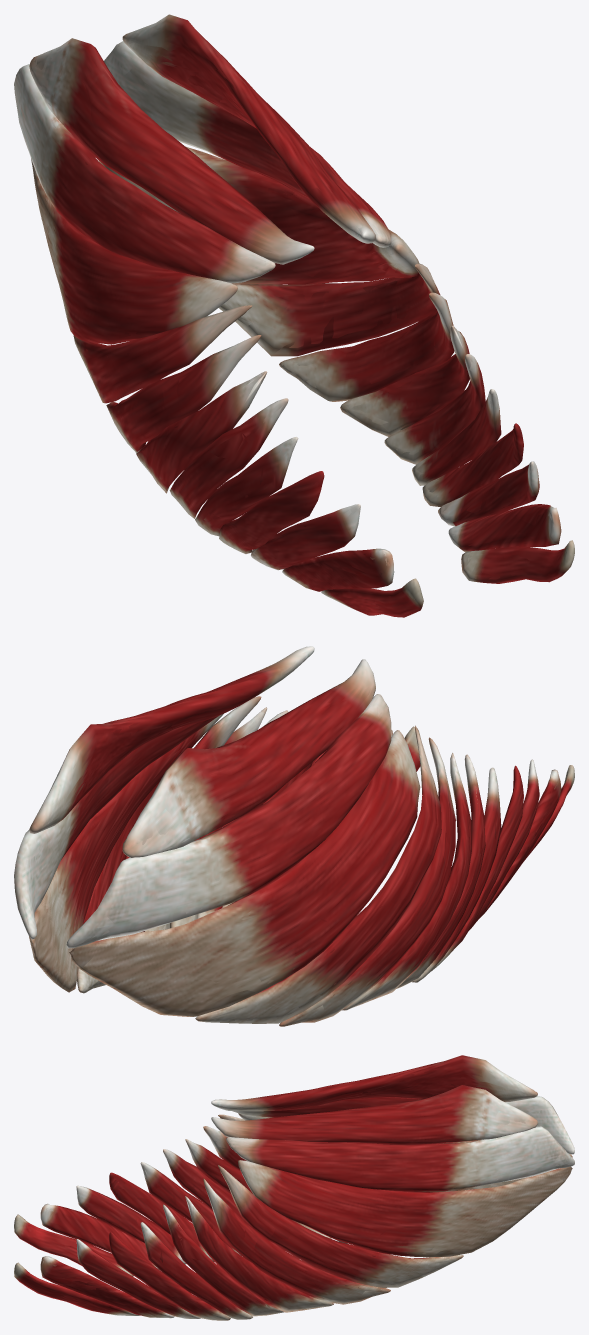
File: Obliquus Externus Abdominis.fbx
3 views of the same model, one above another, from view 1: azimuth 30°, elevation 25°; view 2: azimuth 150°, elevation 25°; view 3: azimuth 270°, elevation 25° (orthographic). The views are drawn at different scales.
Parts seen in each view (by area): view 1: Obliquus Externus Abdominis, Obliquus Externus Abdominis low, Obliquus Externus Abdominis high; view 2: Obliquus Externus Abdominis, Obliquus Externus Abdominis low, Obliquus Externus Abdominis high; view 3: Obliquus Externus Abdominis, Obliquus Externus Abdominis low, Obliquus Externus Abdominis high.
Part boxes in pixels (box(x1,y1,x2,y2)): Obliquus Externus Abdominis: box(14, 14, 574, 617); Obliquus Externus Abdominis low: box(16, 16, 572, 616); Obliquus Externus Abdominis high: box(15, 21, 571, 614); Obliquus Externus Abdominis: box(14, 646, 574, 1026); Obliquus Externus Abdominis low: box(18, 648, 573, 1025); Obliquus Externus Abdominis high: box(17, 647, 572, 1025); Obliquus Externus Abdominis: box(14, 1055, 574, 1320); Obliquus Externus Abdominis low: box(16, 1056, 574, 1320); Obliquus Externus Abdominis high: box(15, 1062, 572, 1320).
Bounding box in the file's own units: 8.37 × 10.04 × 22.43.
1 material, 1 textured.
